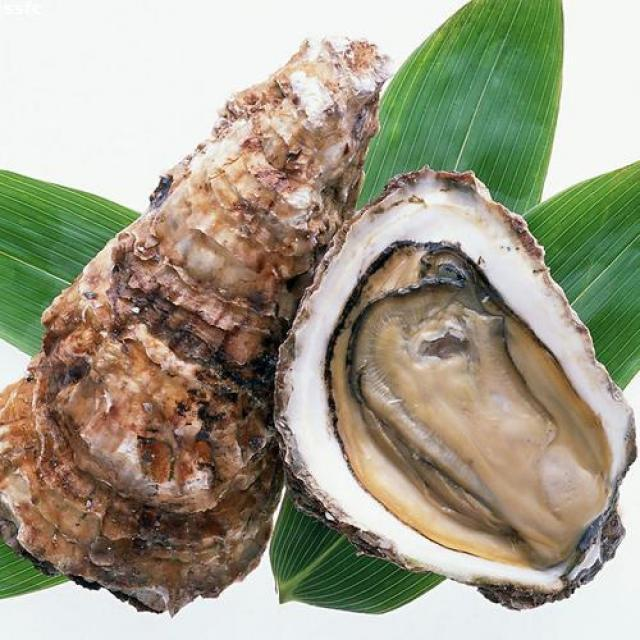Oyster- Indeterminate: (0, 27, 394, 620)
Oyster-Open: (268, 165, 639, 616)
